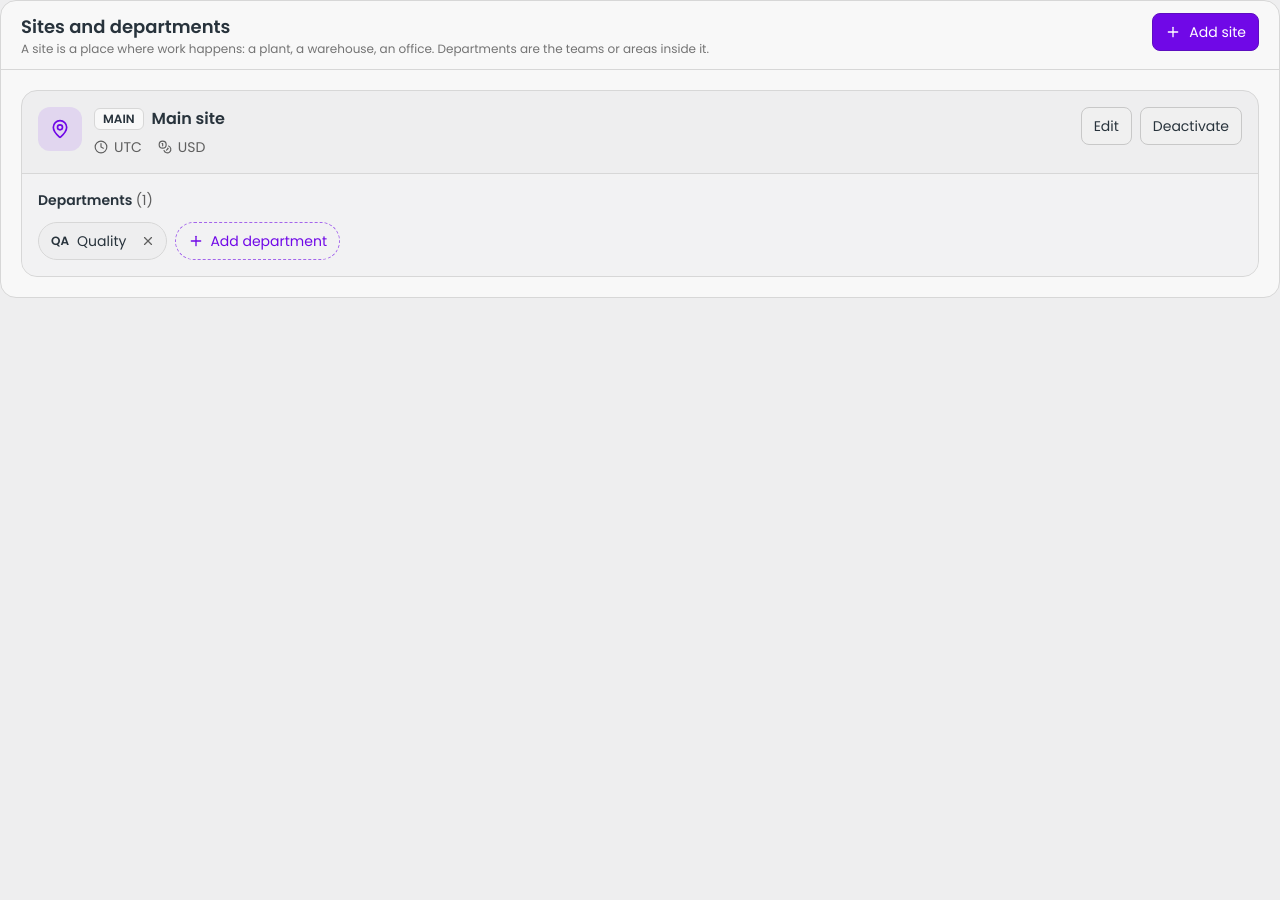
Scenario: sites › adds a site in the same pop-up, starting with the organisation's currency, and creates its departments with it
Later steps or results of the test are not shown.
Click the button "Add site".
click(1206, 32)  # box [1152,13,1259,51]
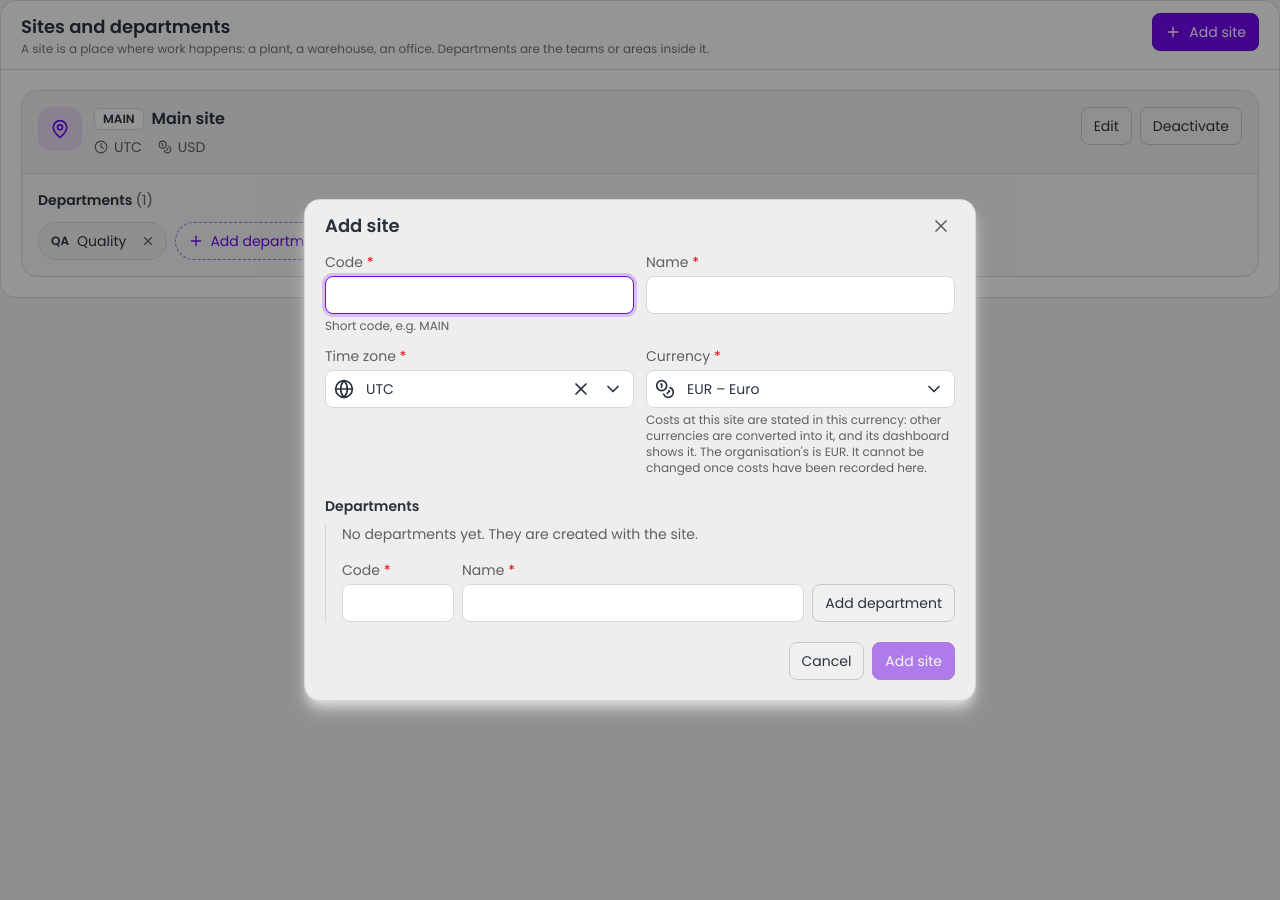
Type "de" into the 1st field labelled "Code".
click(480, 295); type("de")  # box [325,276,634,314]
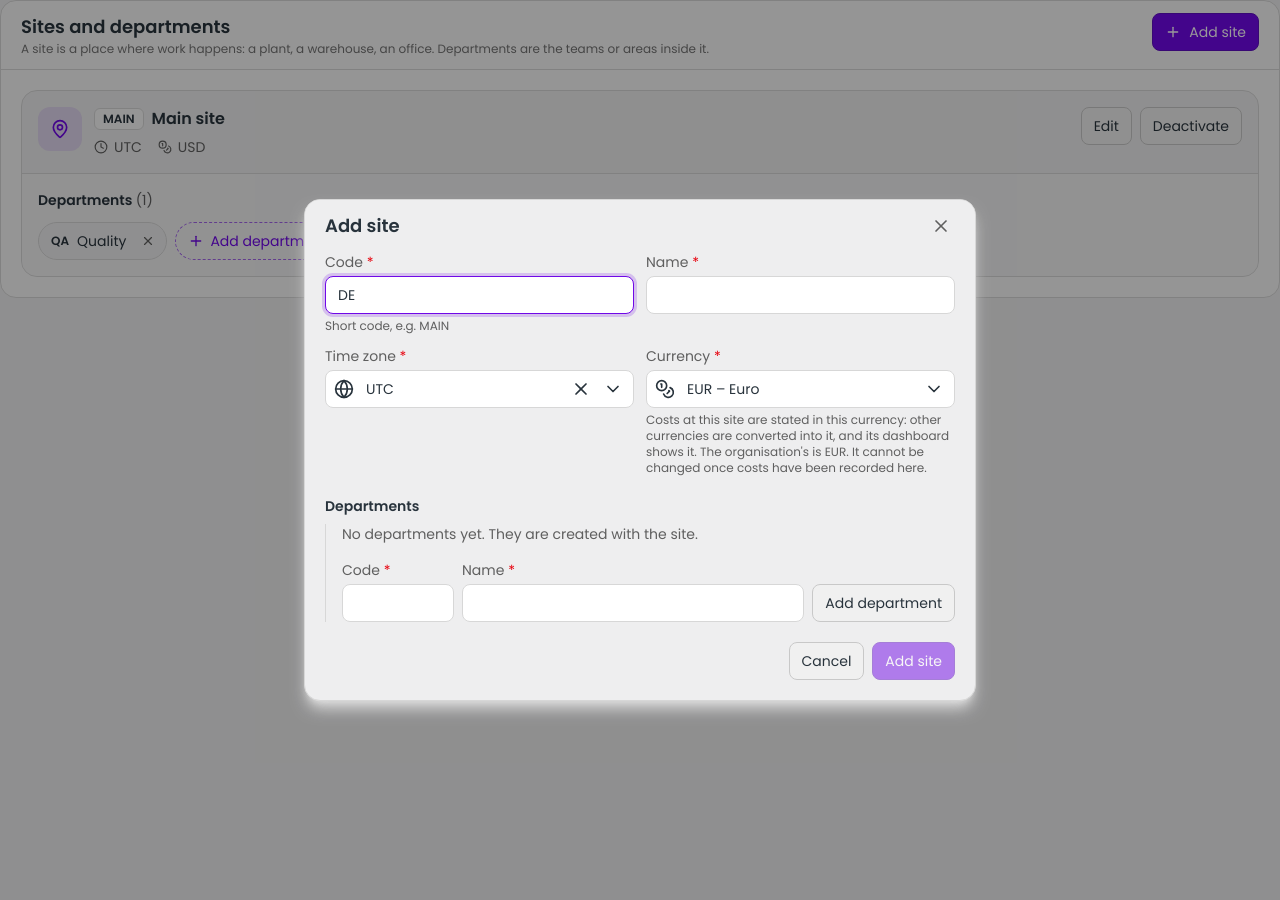
Type "Germany" into the 1st field labelled "Name".
click(800, 295); type("Germany")  # box [646,276,955,314]
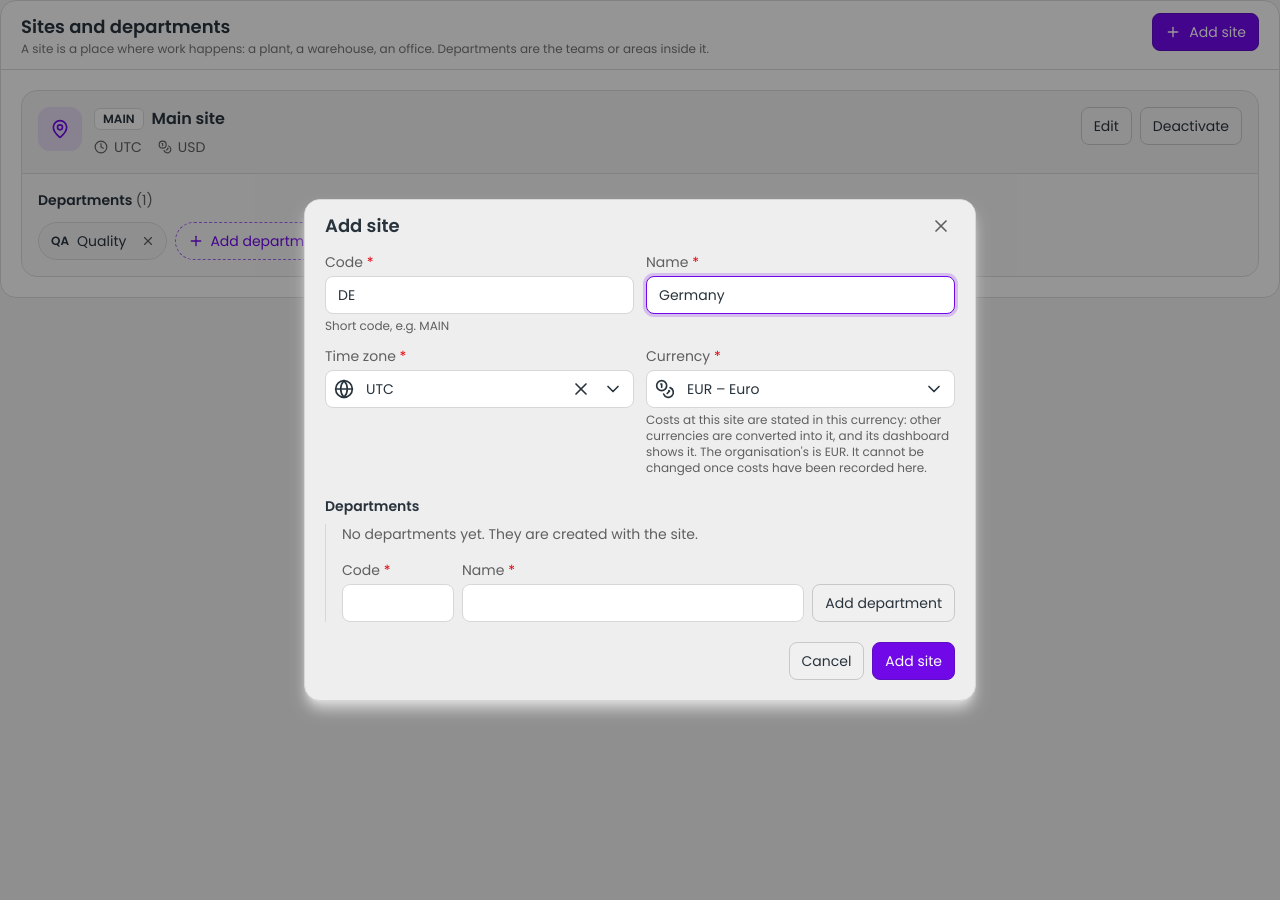
Type "mfg" into the 2nd field labelled "Code".
click(398, 603); type("mfg")  # box [342,584,454,622]
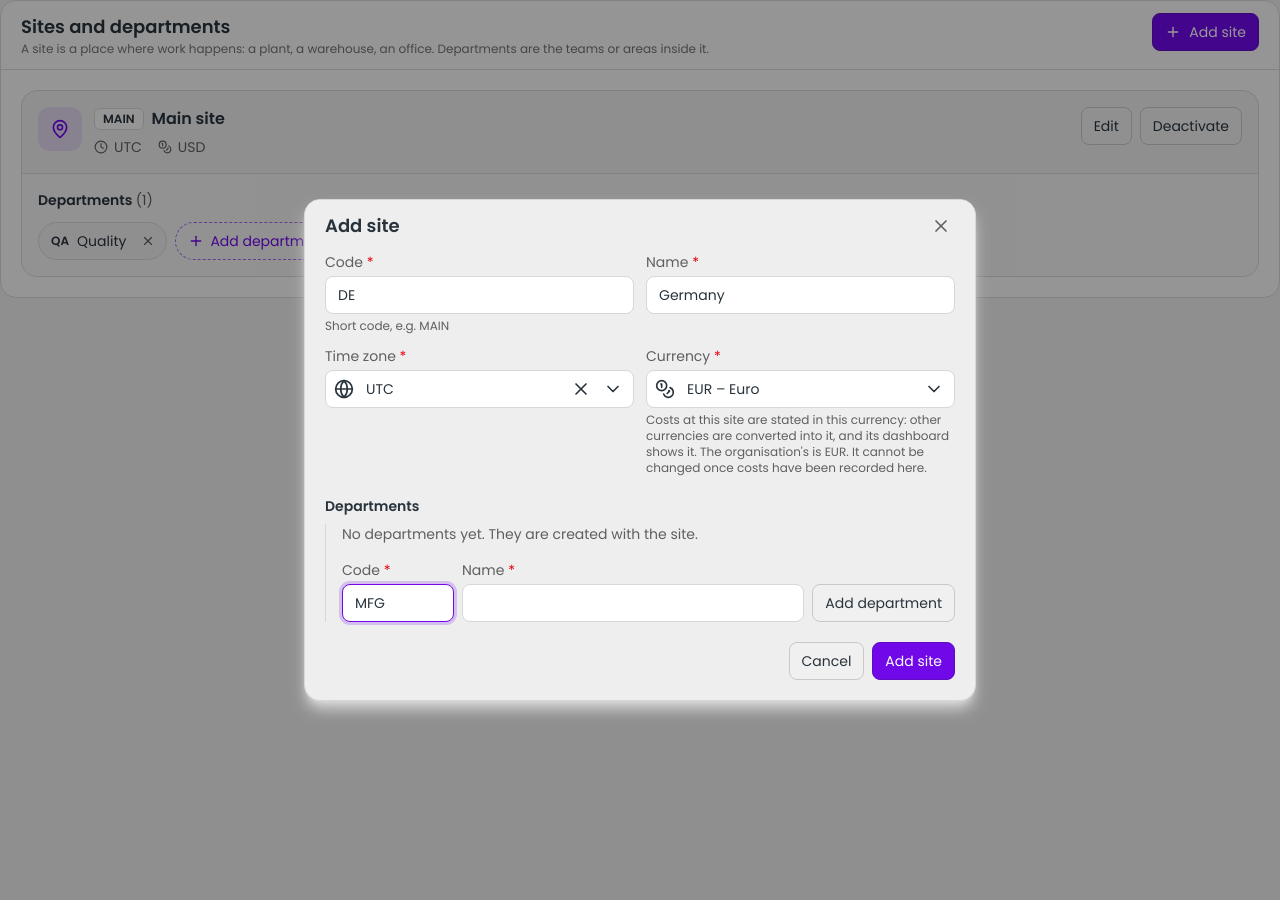
Type "Manufacturing" into the 2nd field labelled "Name".
click(633, 603); type("Manufacturing")  # box [462,584,804,622]
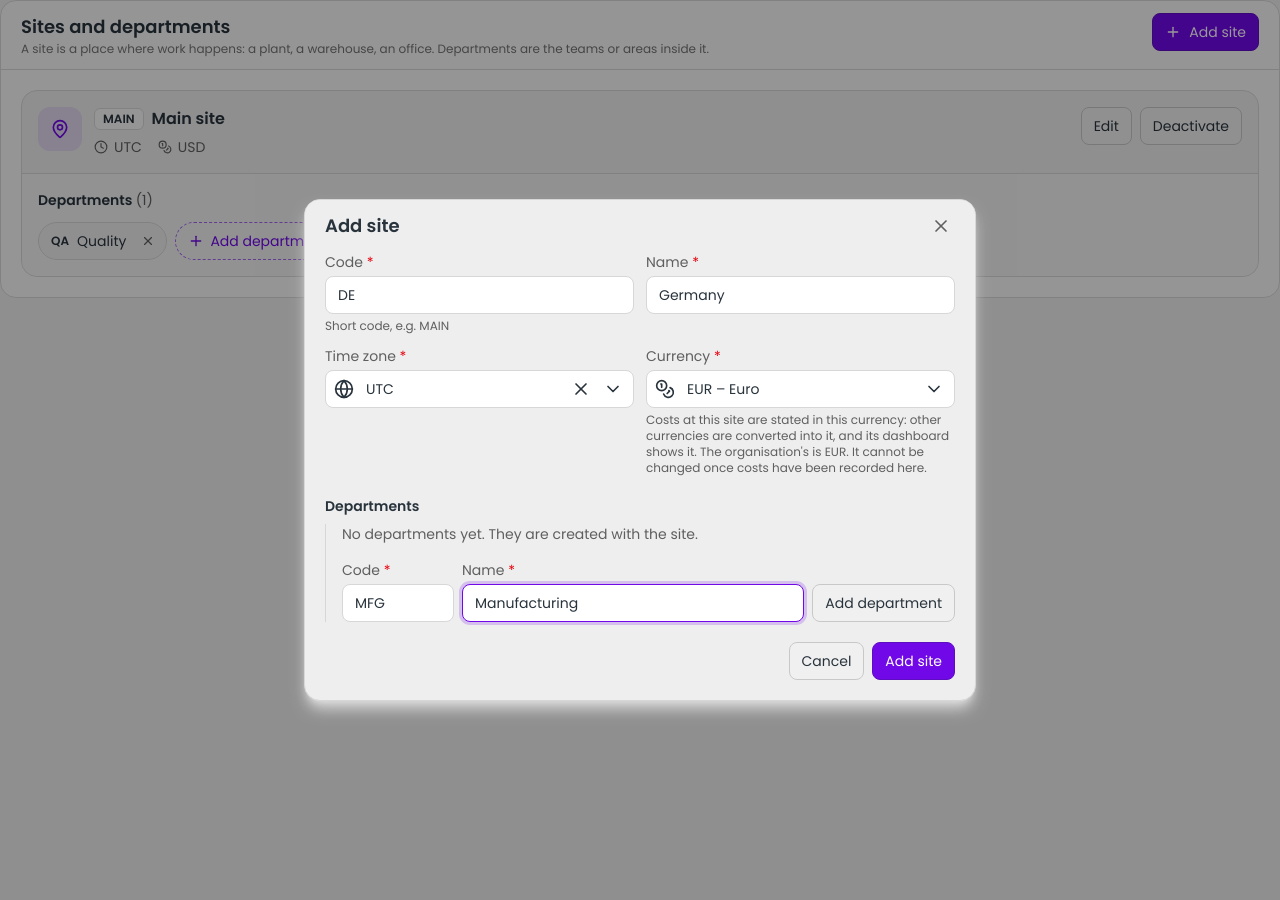
Click the button "Add department".
click(884, 603)  # box [812,584,955,622]
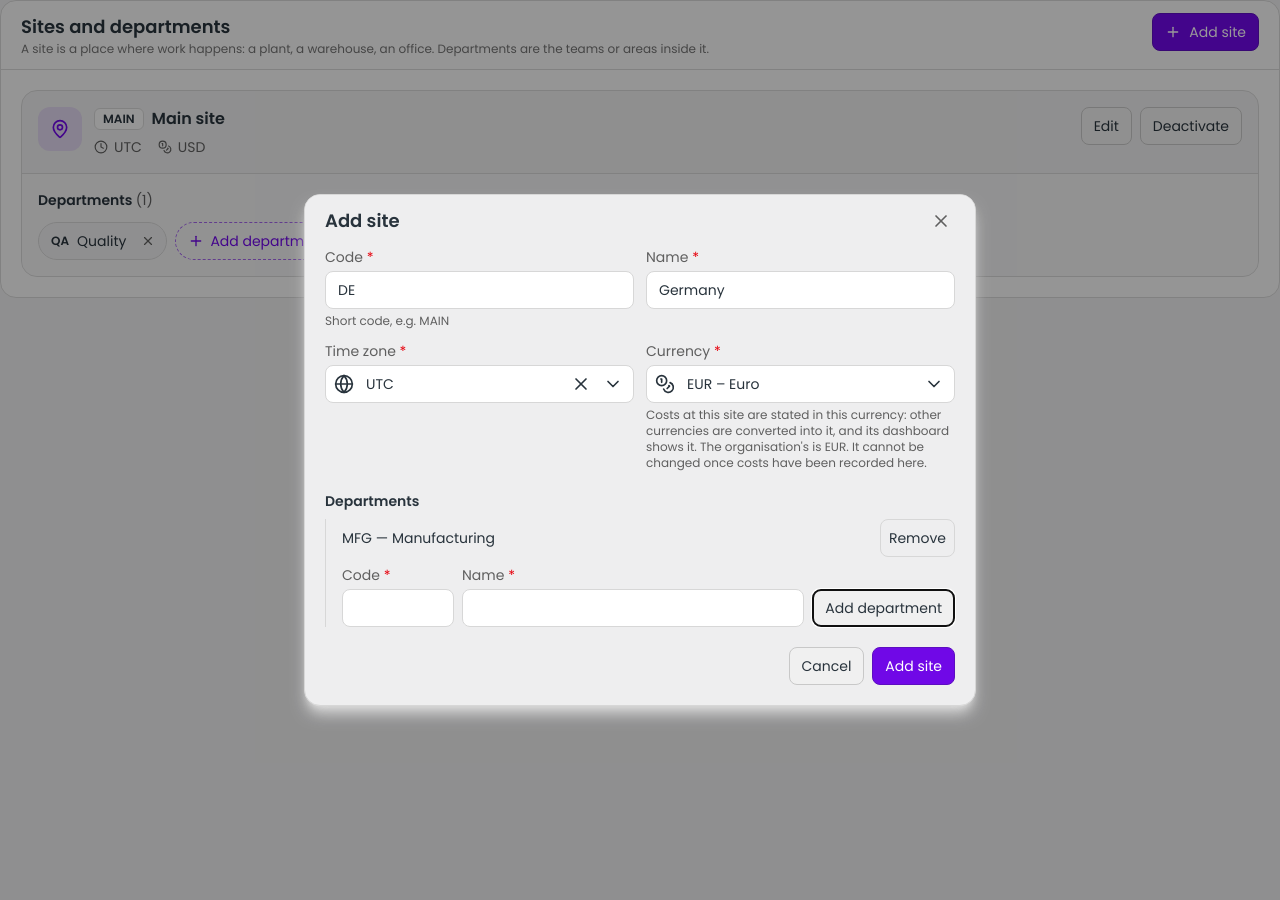
Result: the element "Departments" shows "Manufacturing" at [392,528,495,548]
